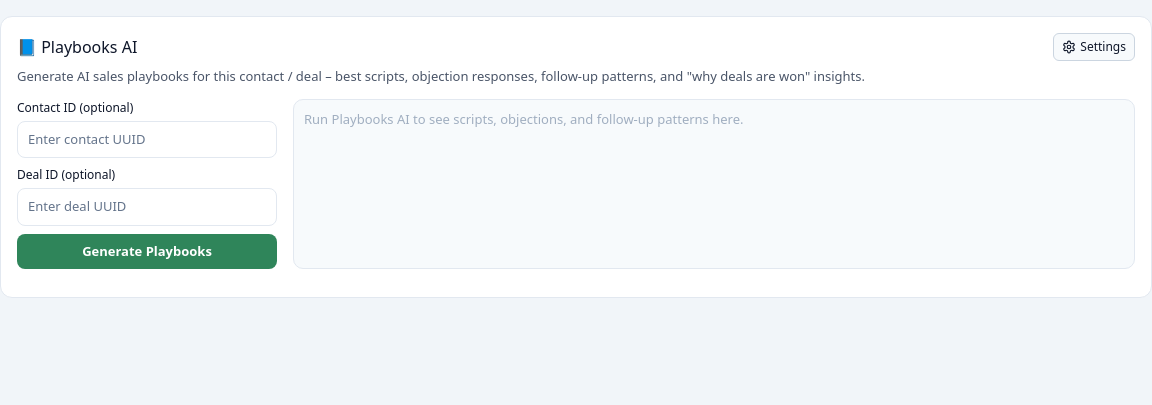
PlaybooksPanel › Playbook Generation › should generate playbooks successfully with both IDs
Type "contact-456" into the field with placeholder "Enter contact UUID".
click(147, 139); type("contact-456")  # box [17,120,277,158]
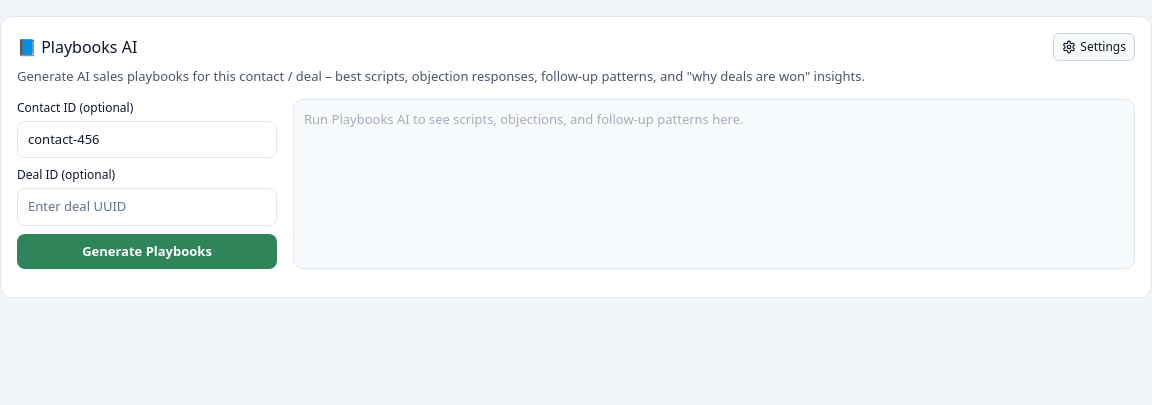
Type "deal-123" into the field with placeholder "Enter deal UUID".
click(147, 207); type("deal-123")  # box [17,188,277,226]
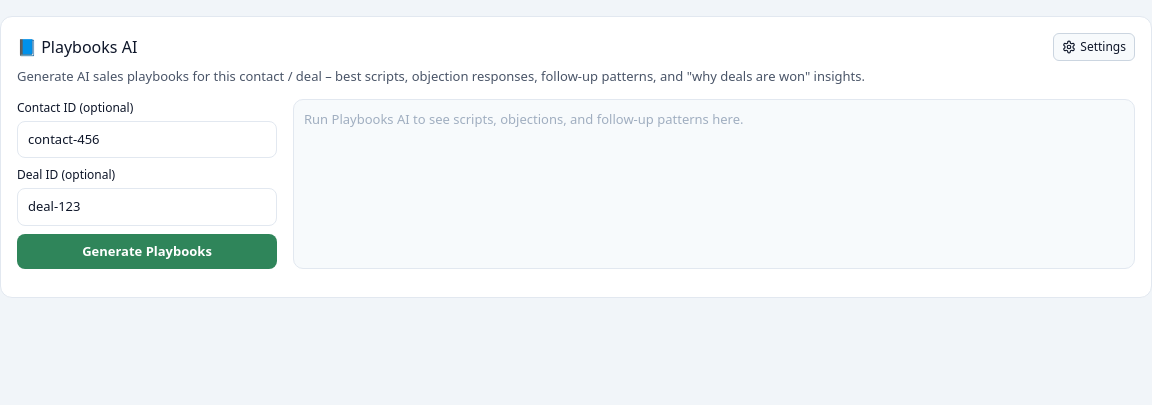
Click the button "Generate Playbooks".
click(147, 251)  # box [17,234,277,269]
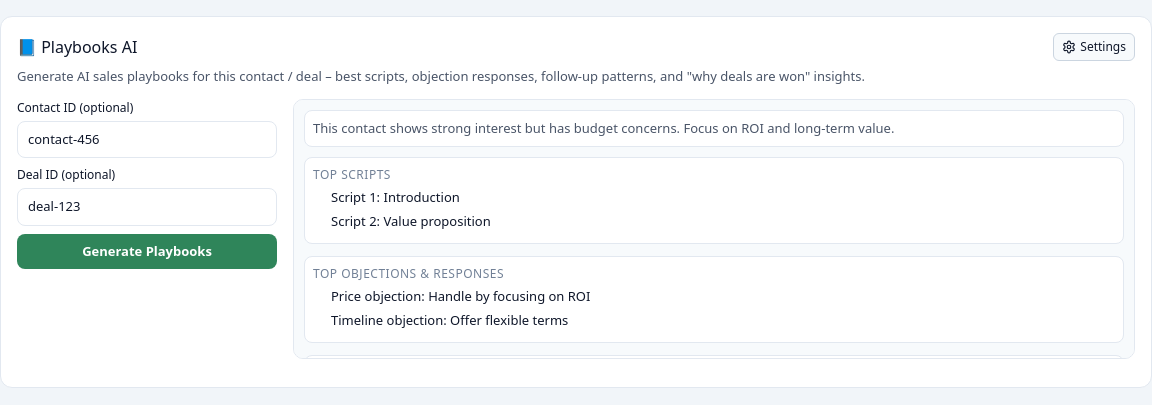
Expected: the text "Top Scripts" is shown, [313,166,391,183]
Expected: the list item "Script 1: Introduction" is shown, [331,188,460,206]
